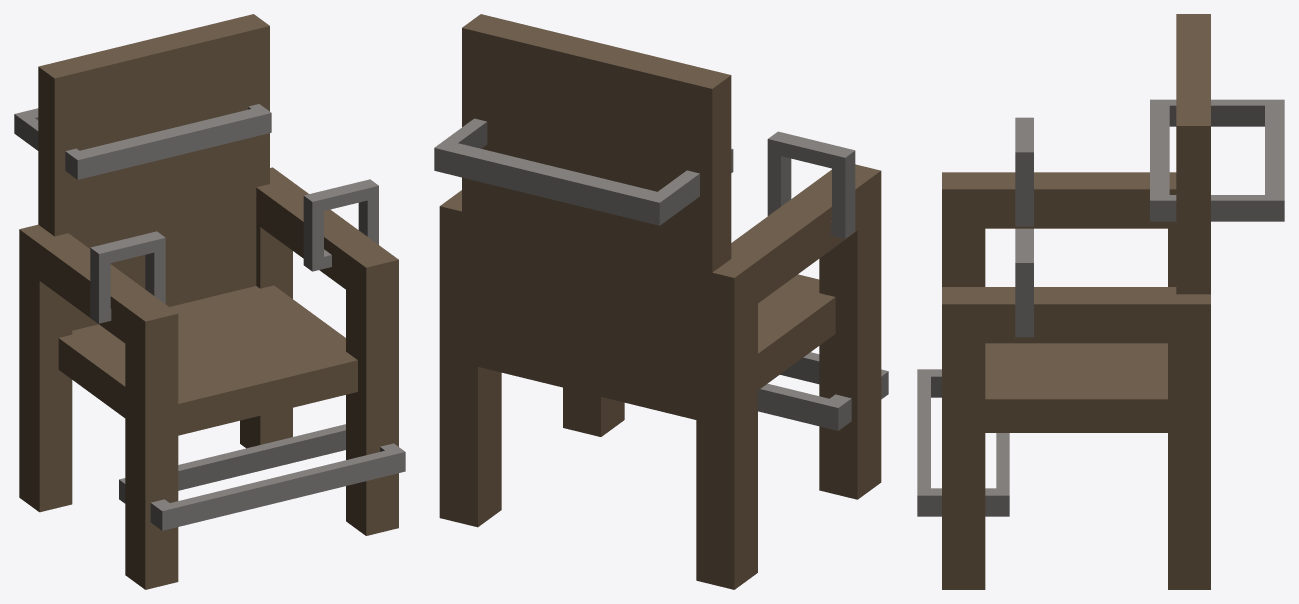
The model's file is SD_Prop_ChairStraps_01.fbx.
The picture shows the model from 3 angles, left to right: view 1: azimuth 30°, elevation 25°; view 2: azimuth 150°, elevation 25°; view 3: azimuth 270°, elevation 25°; orthographic projection. The views are drawn at different scales.
Parts seen in each view (by area): view 1: SD_Prop_ChairStraps_01; view 2: SD_Prop_ChairStraps_01; view 3: SD_Prop_ChairStraps_01.
Boxes of the visible parts, x1,y1,x2,y2 form: SD_Prop_ChairStraps_01: (14,14,405,589); SD_Prop_ChairStraps_01: (434,14,888,589); SD_Prop_ChairStraps_01: (917,14,1284,589).
Bounding box in the file's own units: 1.53 × 2.23 × 1.63.
